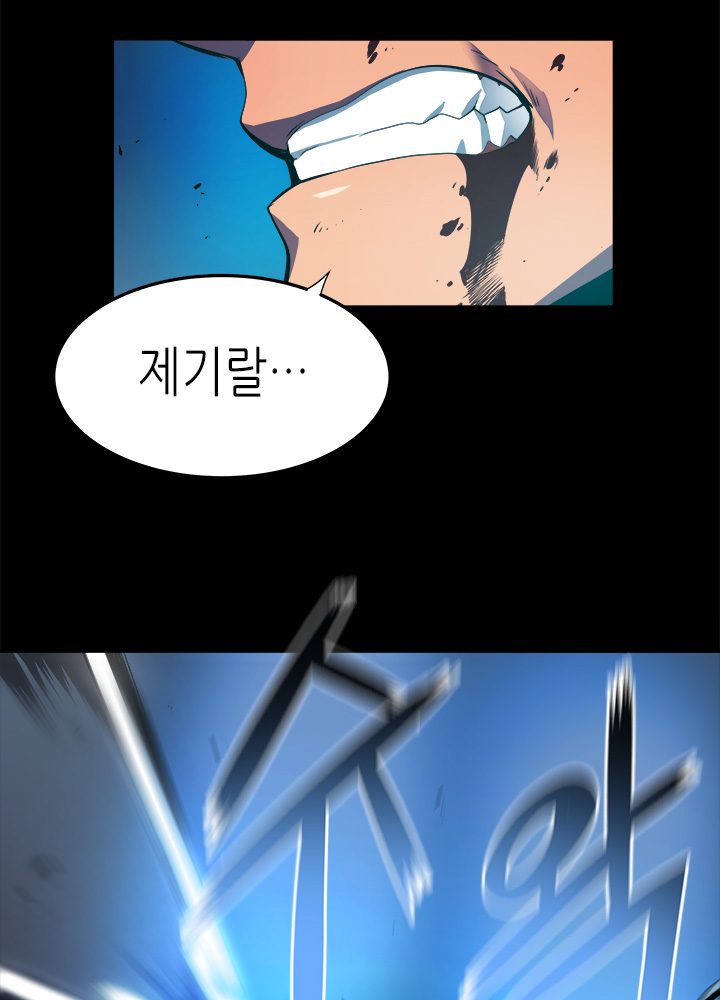dialog box: (30, 255, 416, 498)
text: (123, 329, 332, 420)
